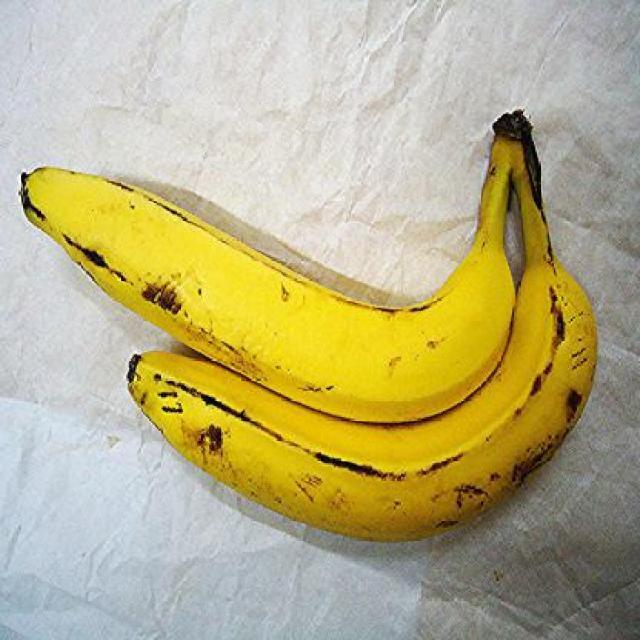Banana: (126, 133, 600, 542), (17, 112, 517, 426)
